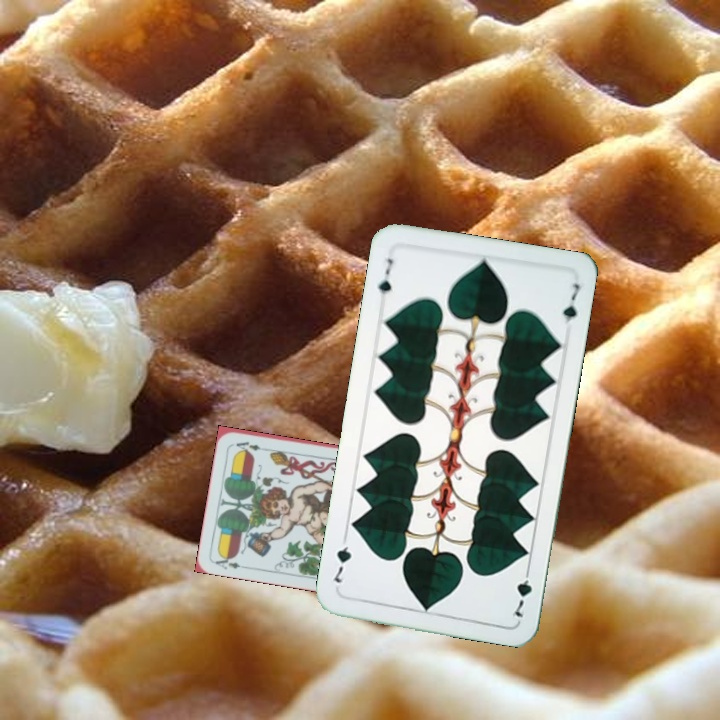EA: (211, 551, 251, 572)
G7: (509, 562, 534, 620), (374, 254, 395, 297)
